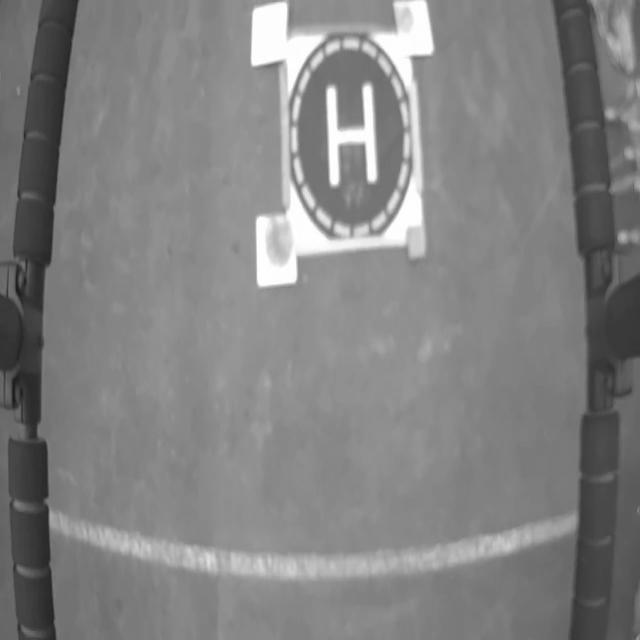Helipad: (325, 82, 378, 188)
